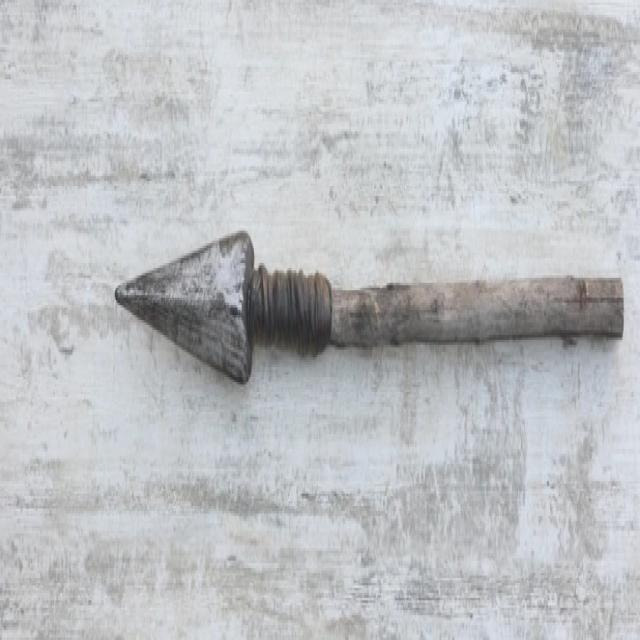spear: (100, 150, 630, 435)
